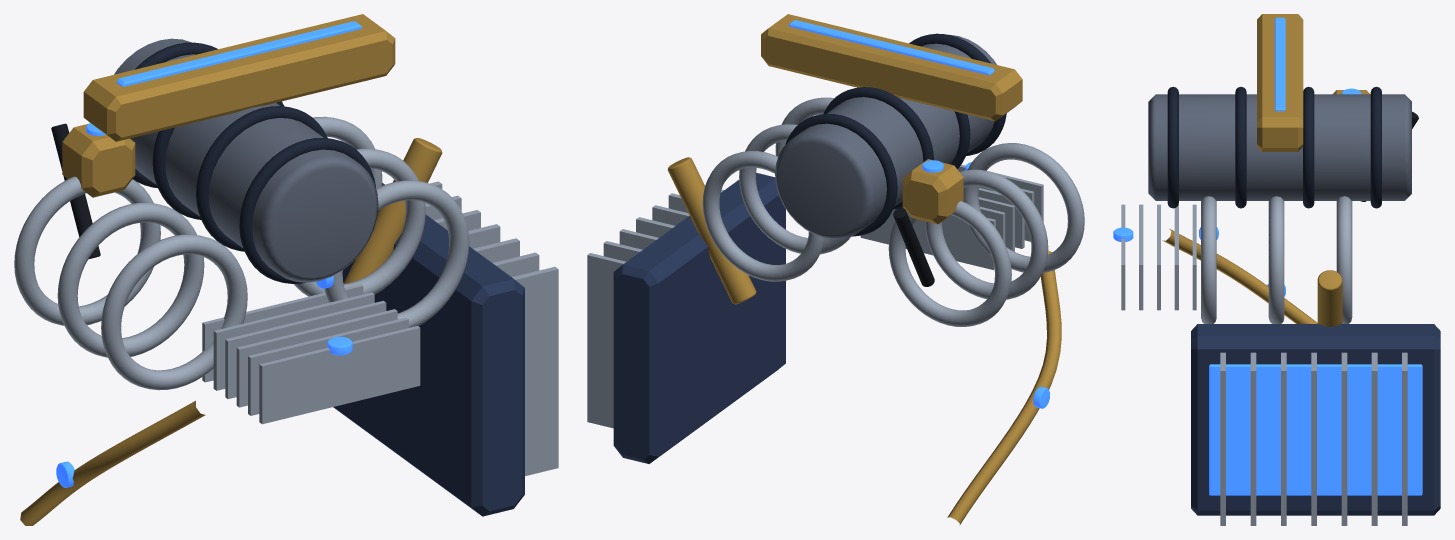
The model's file is tower_lance_rate_s7.glb.
3 views of the same model, side by side, from view 1: azimuth 30°, elevation 25°; view 2: azimuth 150°, elevation 25°; view 3: azimuth 270°, elevation 25° (orthographic). The views are drawn at different scales.
Parts seen in each view (by area): view 1: lance_radiator_frame, lance_capacitor_c, lance_breech_sink, lance_bus_bar_heavy, lance_radiator_fins, lance_cap_cover_r0, lance_cap_cover_r1, lance_cap_cover_r2, lance_cap_cover_l0, lance_bus_tap, lance_cap_cover_l1, lance_coolant_line (+8 smaller); view 2: lance_radiator_frame, lance_capacitor_c, lance_bus_bar_heavy, lance_radiator_fins, lance_breech_sink, lance_cap_cover_r2, lance_cap_cover_r1, lance_cap_cover_l2, lance_cap_cover_r0, lance_coolant_line, lance_radiator_pipe, lance_bus_tap (+8 smaller); view 3: lance_radiator_glow, lance_capacitor_c, lance_radiator_frame, lance_radiator_fins, lance_bus_bar_heavy, lance_breech_sink, lance_cap_cover_l1, lance_cap_cover_l0, lance_cap_cover_l2, lance_coolant_line, lance_cap_rib_c3, lance_cap_rib_c0 (+4 smaller).
Part boxes in pixels (x1=…): lance_radiator_frame: x1=333, y1=183, x2=524, y2=516; lance_capacitor_c: x1=114, y1=38, x2=378, y2=282; lance_breech_sink: x1=202, y1=284, x2=420, y2=424; lance_bus_bar_heavy: x1=83, y1=14, x2=395, y2=141; lance_radiator_fins: x1=425, y1=181, x2=558, y2=476; lance_cap_cover_r0: x1=101, y1=234, x2=247, y2=390; lance_cap_cover_r1: x1=57, y1=202, x2=204, y2=357; lance_cap_cover_r2: x1=14, y1=176, x2=160, y2=325; lance_cap_cover_l0: x1=324, y1=180, x2=469, y2=327; lance_bus_tap: x1=62, y1=124, x2=135, y2=197; lance_cap_cover_l1: x1=294, y1=148, x2=425, y2=296; lance_coolant_line: x1=20, y1=400, x2=205, y2=525; lance_radiator_frame: x1=613, y1=173, x2=785, y2=463; lance_capacitor_c: x1=775, y1=34, x2=996, y2=239; lance_bus_bar_heavy: x1=761, y1=14, x2=1022, y2=121; lance_radiator_fins: x1=587, y1=185, x2=724, y2=428; lance_breech_sink: x1=860, y1=164, x2=1043, y2=269; lance_cap_cover_r2: x1=888, y1=201, x2=1011, y2=326; lance_cap_cover_r1: x1=925, y1=169, x2=1048, y2=299; lance_cap_cover_l2: x1=702, y1=151, x2=824, y2=281; lance_cap_cover_r0: x1=963, y1=143, x2=1084, y2=272; lance_coolant_line: x1=947, y1=250, x2=1061, y2=525; lance_radiator_pipe: x1=667, y1=157, x2=756, y2=304; lance_bus_tap: x1=902, y1=159, x2=963, y2=224; lance_radiator_glow: x1=1209, y1=364, x2=1422, y2=495; lance_capacitor_c: x1=1148, y1=94, x2=1411, y2=200; lance_radiator_frame: x1=1191, y1=324, x2=1440, y2=515; lance_radiator_fins: x1=1220, y1=352, x2=1407, y2=525; lance_bus_bar_heavy: x1=1257, y1=14, x2=1303, y2=151; lance_breech_sink: x1=1121, y1=204, x2=1196, y2=310; lance_cap_cover_l1: x1=1268, y1=196, x2=1284, y2=323; lance_cap_cover_l0: x1=1201, y1=196, x2=1216, y2=323; lance_cap_cover_l2: x1=1336, y1=196, x2=1352, y2=323; lance_coolant_line: x1=1162, y1=228, x2=1317, y2=323; lance_cap_rib_c3: x1=1370, y1=86, x2=1381, y2=208; lance_cap_rib_c0: x1=1167, y1=86, x2=1178, y2=208.
Size of the model in its own units: 1.17 by 1.18 by 0.918.
